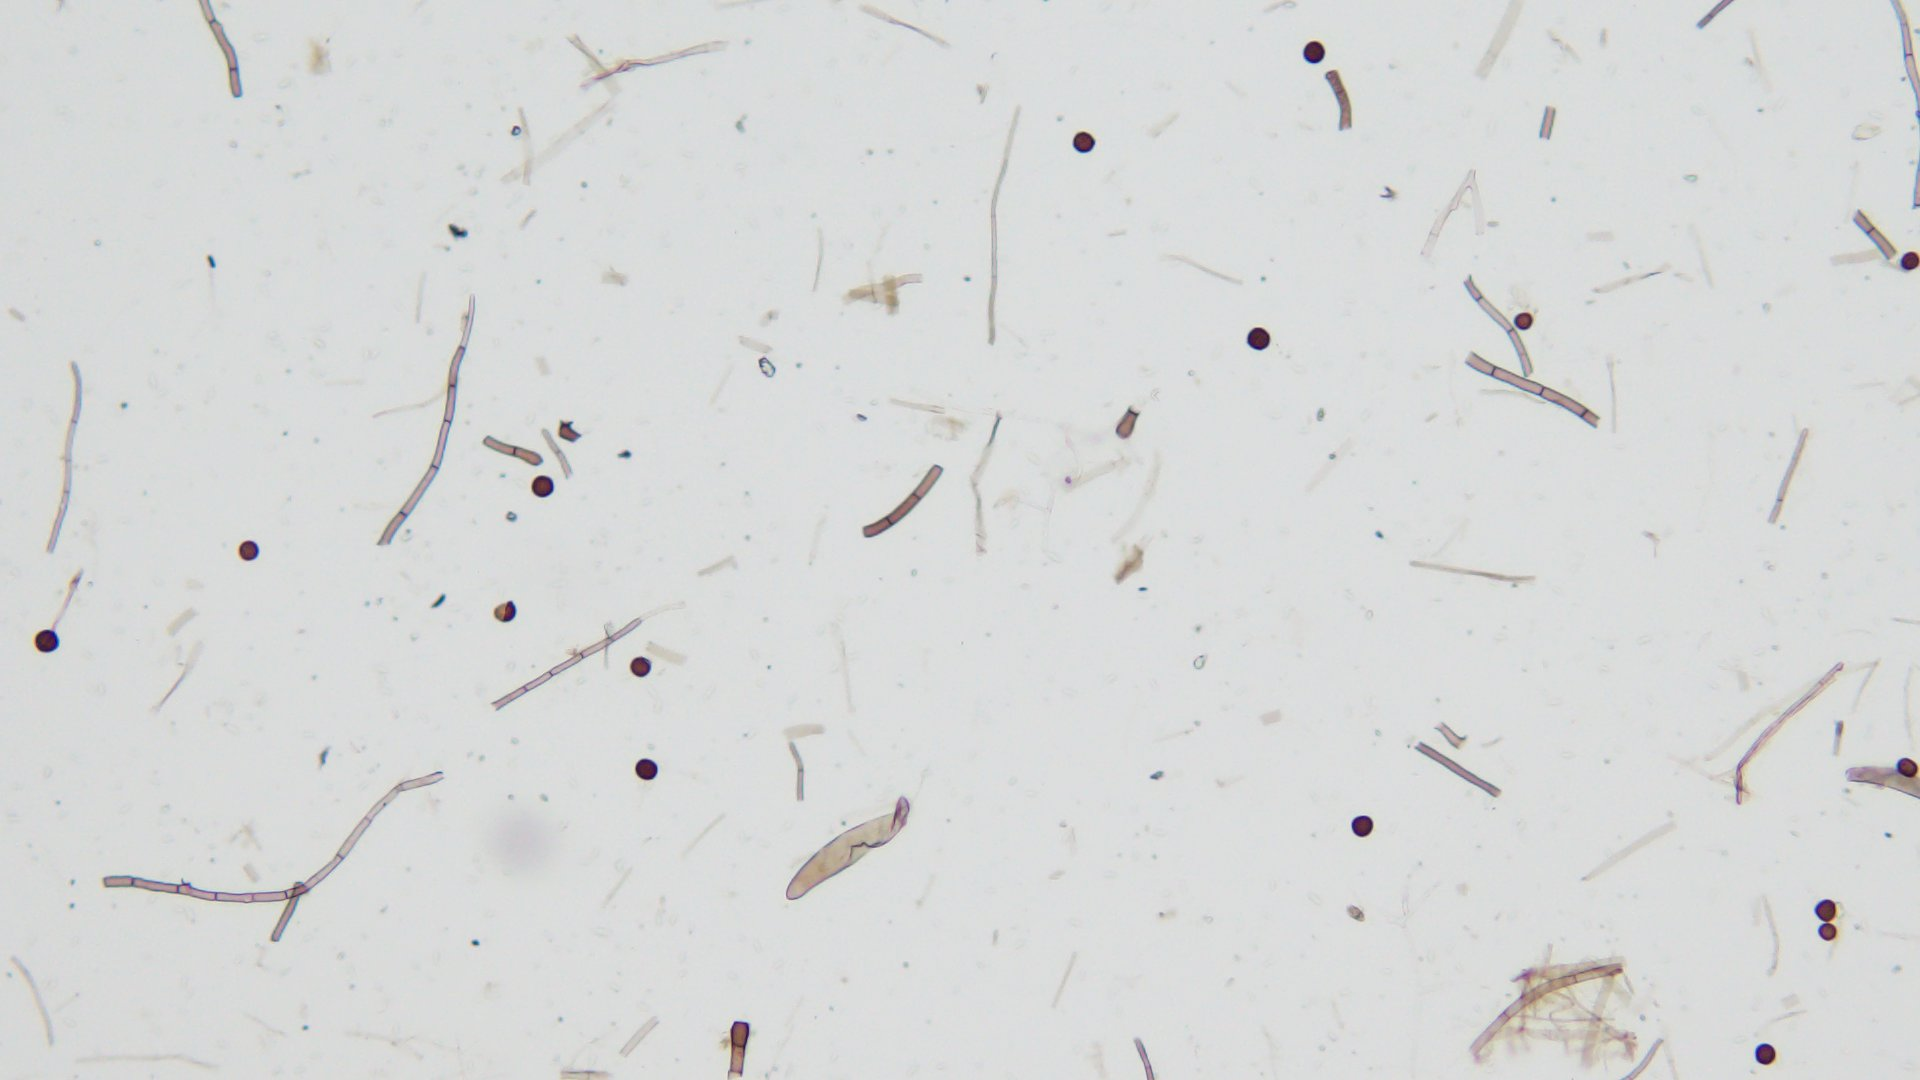dbb_spore: (775, 810, 910, 901)
shs_spore: (1246, 327, 1273, 352), (632, 758, 658, 782), (1302, 40, 1325, 65), (1753, 1042, 1778, 1065), (33, 630, 59, 653), (531, 473, 553, 497), (1072, 131, 1096, 152), (1350, 815, 1373, 836), (1816, 899, 1838, 920), (236, 541, 258, 560), (628, 658, 651, 676), (1817, 924, 1838, 943), (1513, 313, 1534, 330)
